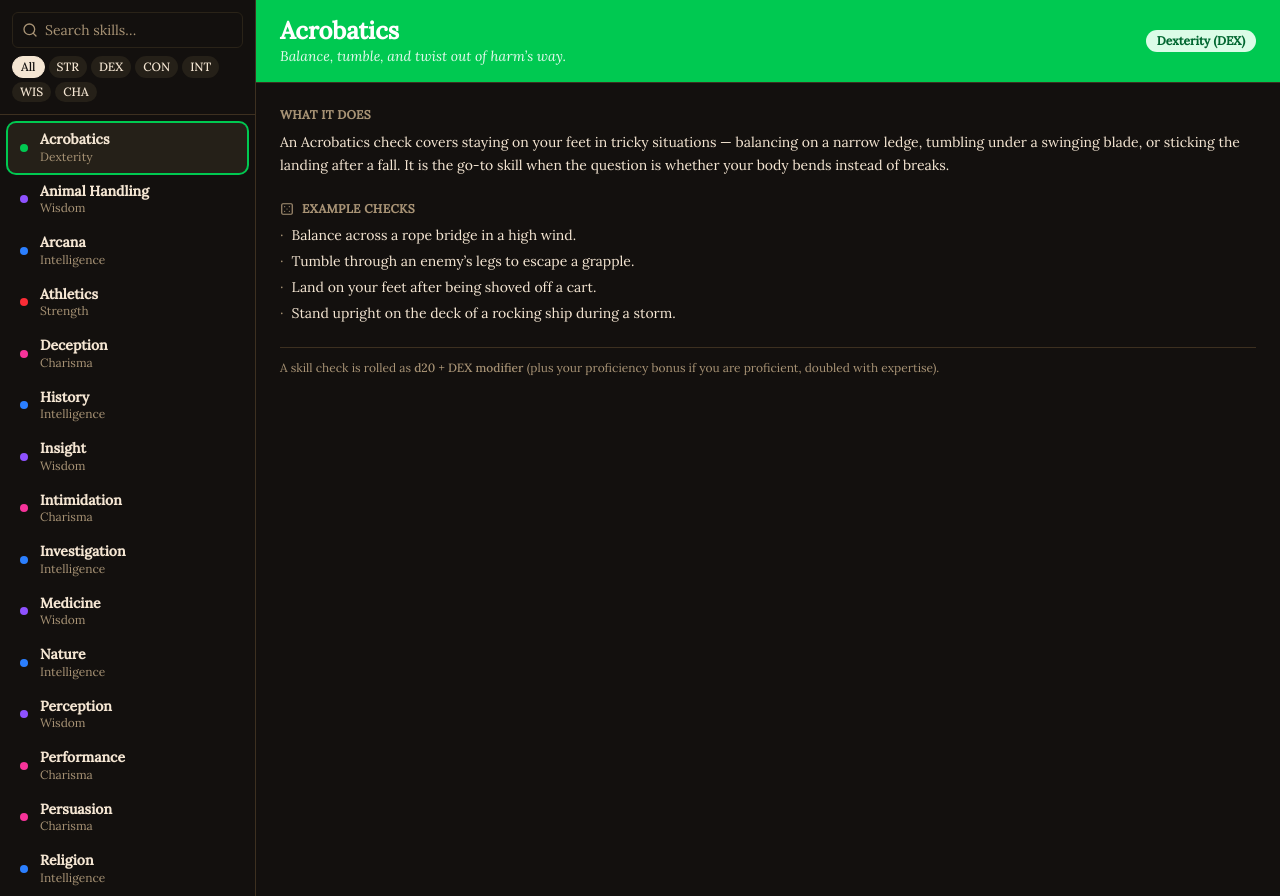
Test: SkillsTab › shows the skill flavor text in the detail header
Step 1. Click the button with test id "skill-row-Persuasion" → (128, 817), box [8,792,247,842]
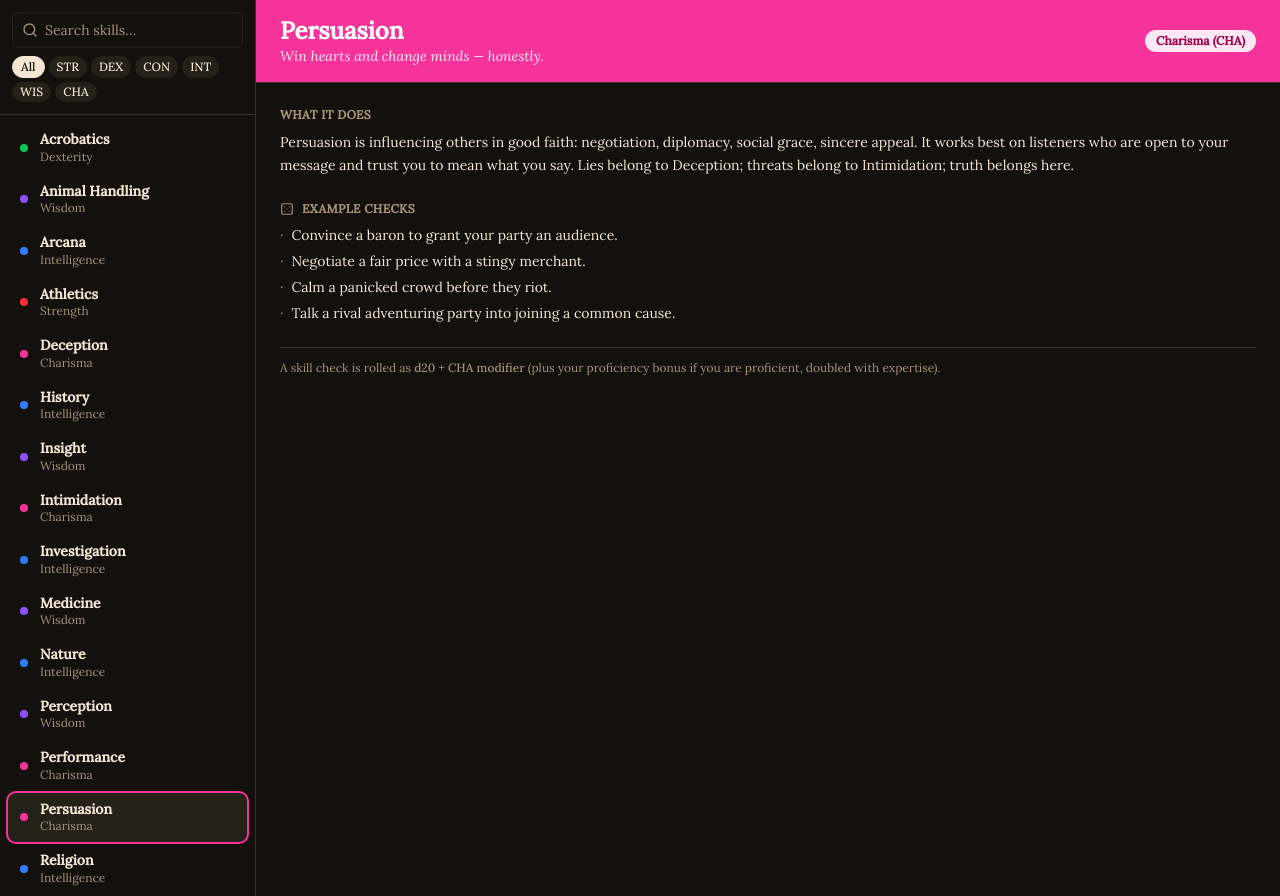
Check: the text "Win hearts and change minds — honestly." is shown, box [280,47,544,65]
